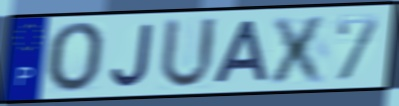7: (334, 13, 382, 83)
A: (210, 18, 271, 85)
J: (109, 21, 156, 89)
O: (46, 20, 108, 95)
U: (157, 16, 219, 92)
X: (266, 13, 332, 86)
